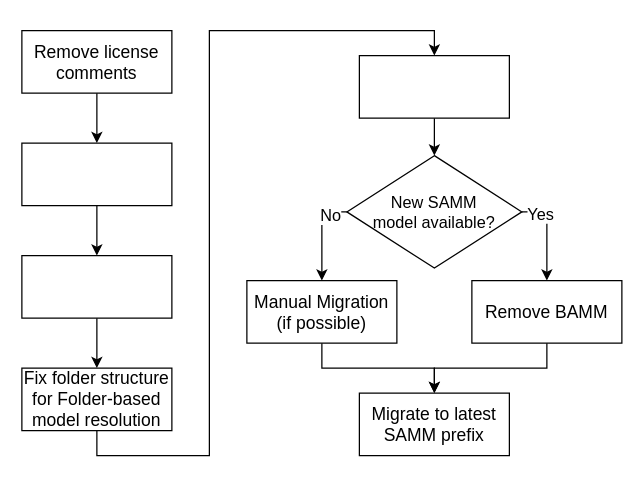
The diagram is 644 pixels wide and 488 high, and some of its shapes have lost their labels. The centre of each missing label's shape, as x and y in pixels:
"Old BAMM model" belongs at point 433,86.
"Remove models with empty JSON Payload" belongs at point 96,286.
"Remove samm:operations and samm:events" belongs at point 96,174.
